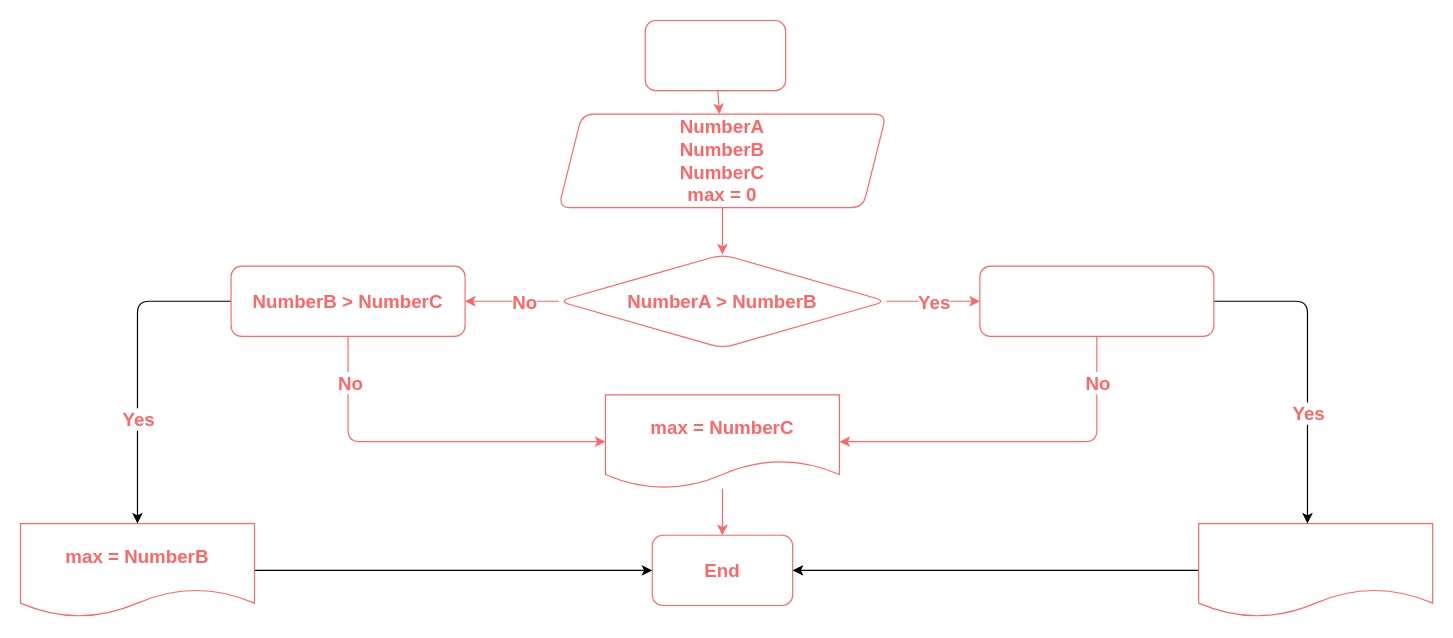
The diagram is 1453 pixels wide and 638 high, and some of its shapes have lost their labels. The box of each missing label's shape, as (x1, y1, x2, y2) in pixels:
max = NumberA: (1197, 522, 1433, 617)
NumberA > NumberC: (979, 265, 1214, 336)
Start: (644, 19, 786, 91)
